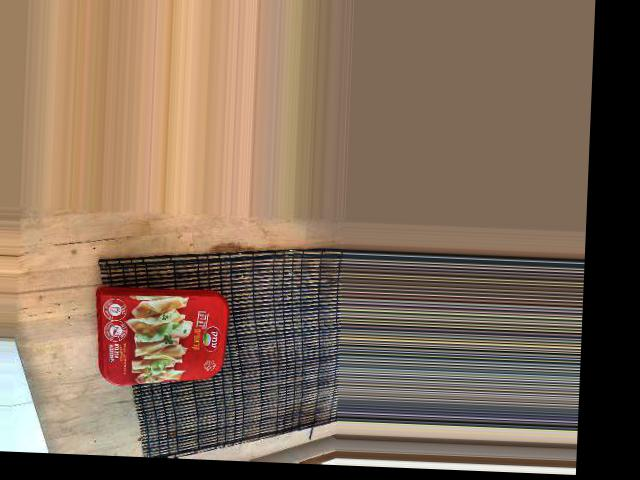cheese: (66, 277, 236, 390)
